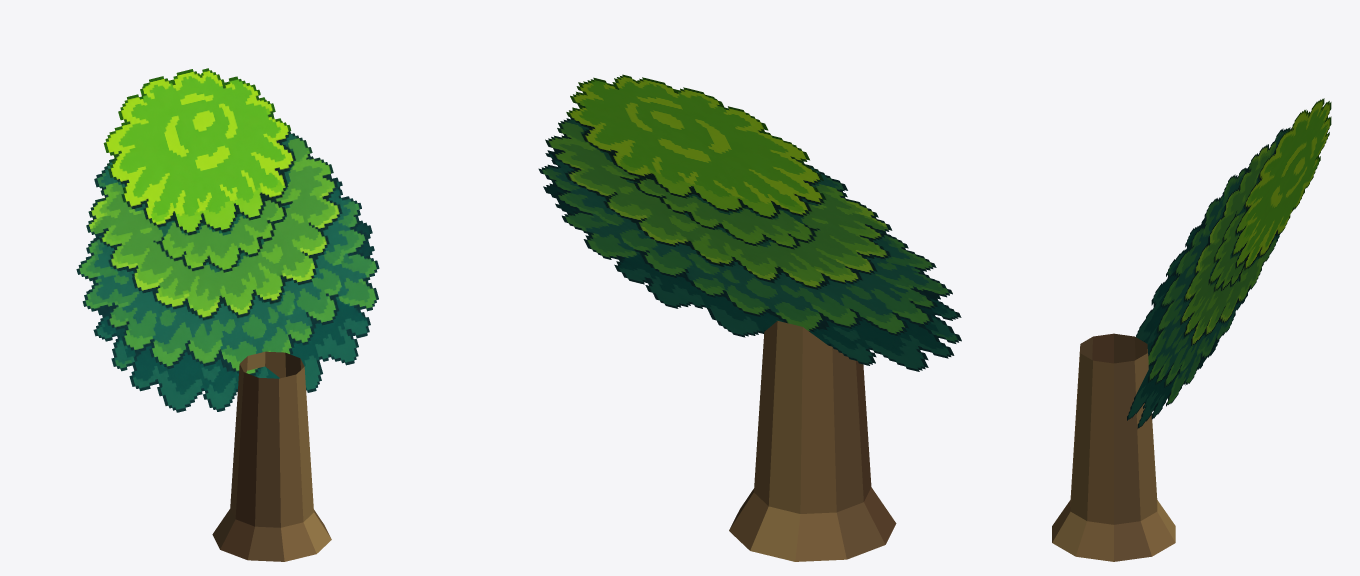
File: SM_Pixel_CardTree_A.fbx
3 views of the same model, side by side, from view 1: azimuth 30°, elevation 25°; view 2: azimuth 150°, elevation 25°; view 3: azimuth 270°, elevation 25° (orthographic). The views are drawn at different scales.
Parts seen in each view (by area): view 1: SM_Pixel_CardTree_A; view 2: SM_Pixel_CardTree_A; view 3: SM_Pixel_CardTree_A.
Boxes of the visible parts, x1,y1,x2,y2 form: SM_Pixel_CardTree_A: [76, 68, 379, 561]; SM_Pixel_CardTree_A: [538, 74, 961, 561]; SM_Pixel_CardTree_A: [1052, 98, 1331, 561].
Size of the model in its own units: 330 by 258 by 427.
2 materials, 2 textured.
